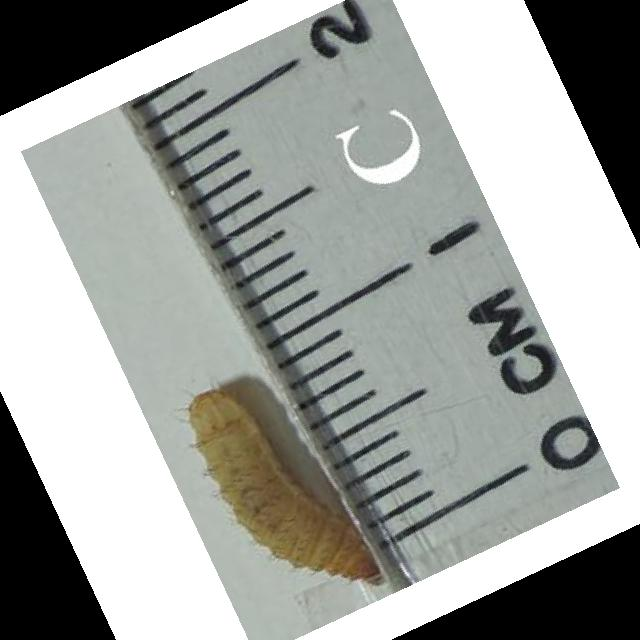Maggot: (186, 388, 380, 587)
